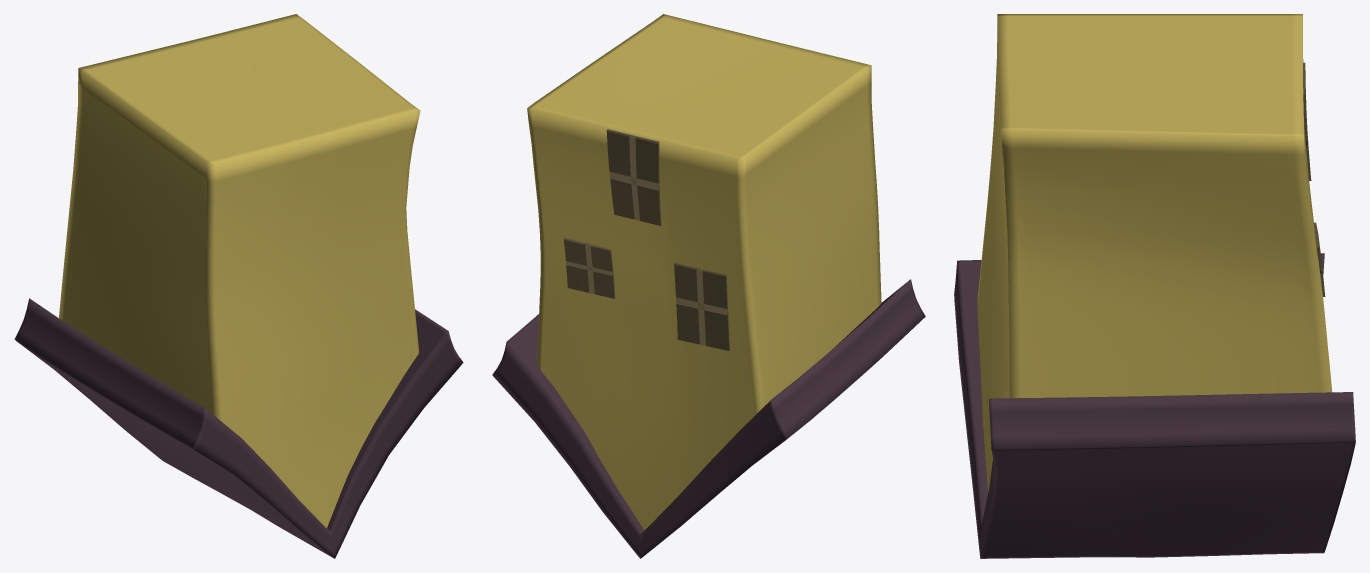
File: house5.fbx
The picture shows the model from 3 angles, left to right: view 1: azimuth 30°, elevation 25°; view 2: azimuth 150°, elevation 25°; view 3: azimuth 270°, elevation 25°; orthographic projection. The views are drawn at different scales.
Visible parts, largest first — view 1: house.005; view 2: house.005; view 3: house.005.
Boxes of the visible parts, x1=… form: house.005: x1=14, y1=14, x2=463, y2=558; house.005: x1=492, y1=14, x2=925, y2=558; house.005: x1=954, y1=14, x2=1355, y2=558.
Bounding box in the file's own units: 88.93 × 118 × 88.03.
